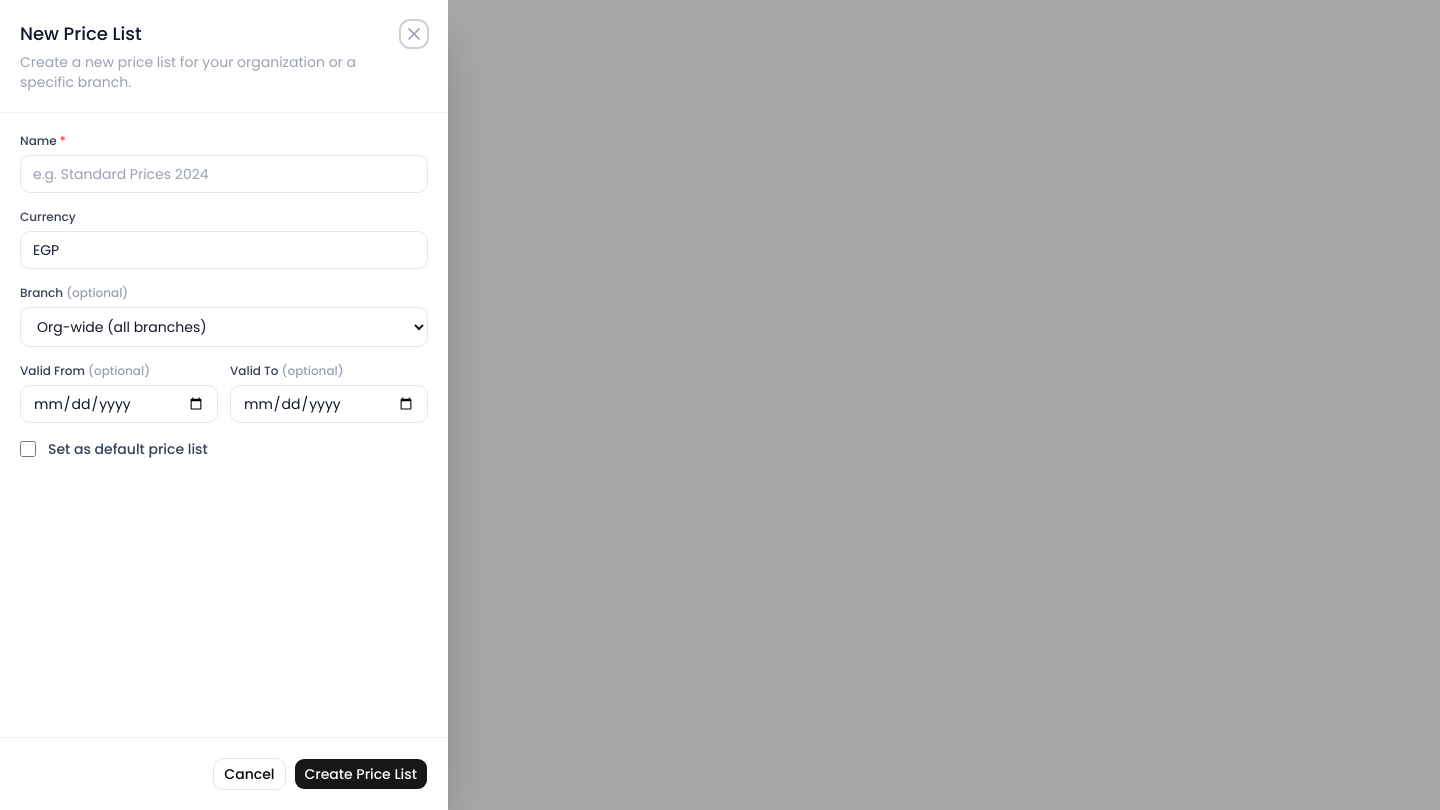
Test: PriceListDrawer › requires a name
Click the button "Create Price List": (361, 774) 294,758 -> 428,790
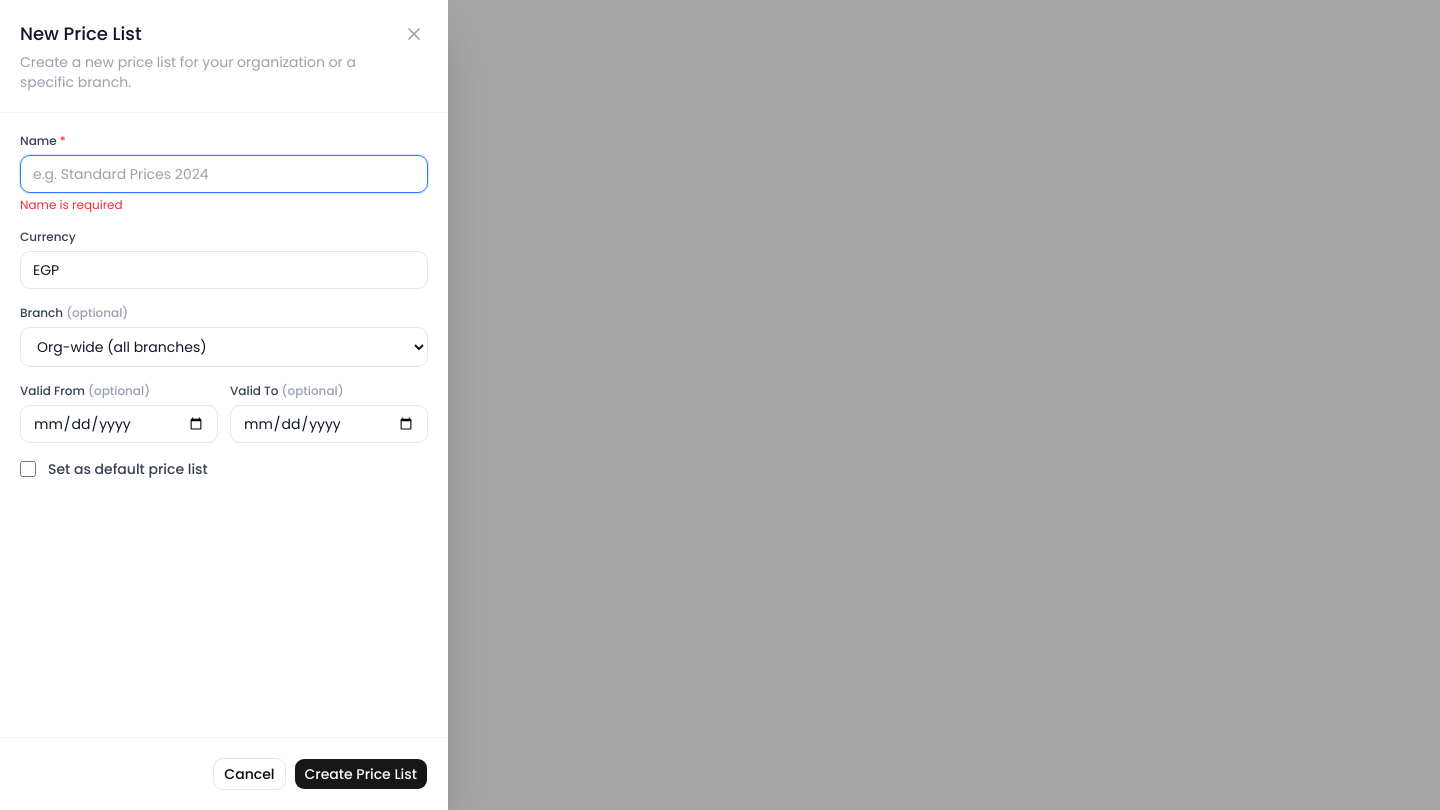
Now the text "Name is required" is shown, box 20,196 -> 123,213
